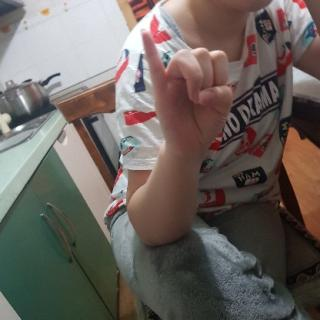MEEM: (135, 20, 238, 158)
